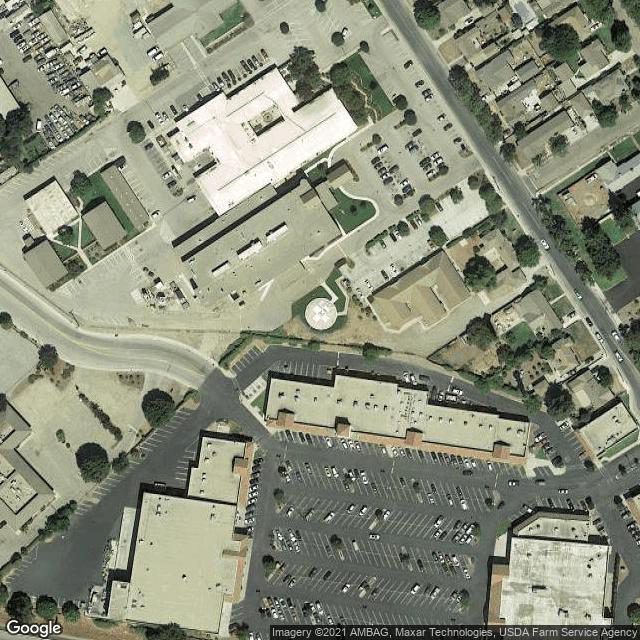Helipad: (305, 300, 336, 327)
